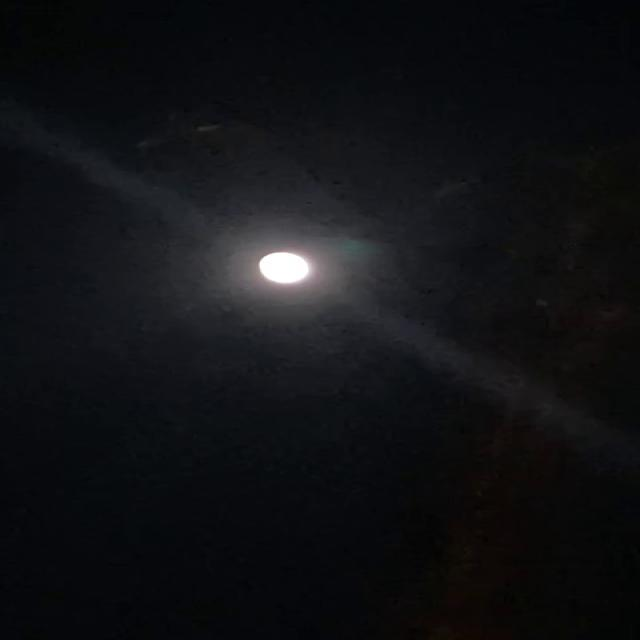moon: (252, 235, 322, 294)
